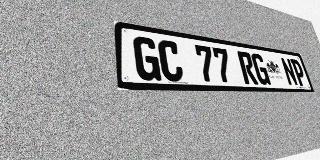7: (193, 44, 218, 83), (211, 47, 234, 84)
C: (157, 39, 184, 82)
G: (133, 36, 161, 81), (250, 53, 271, 85)
N: (280, 57, 299, 86)
P: (290, 59, 308, 86)
R: (237, 51, 258, 84)
